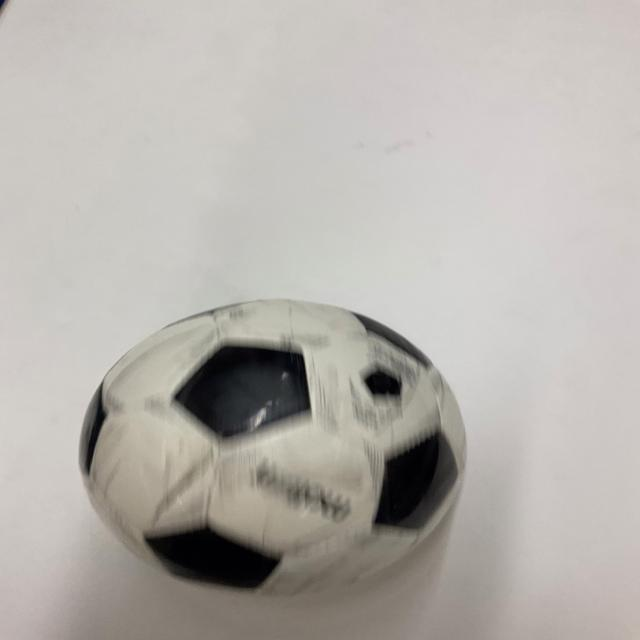ball: (77, 300, 472, 600)
